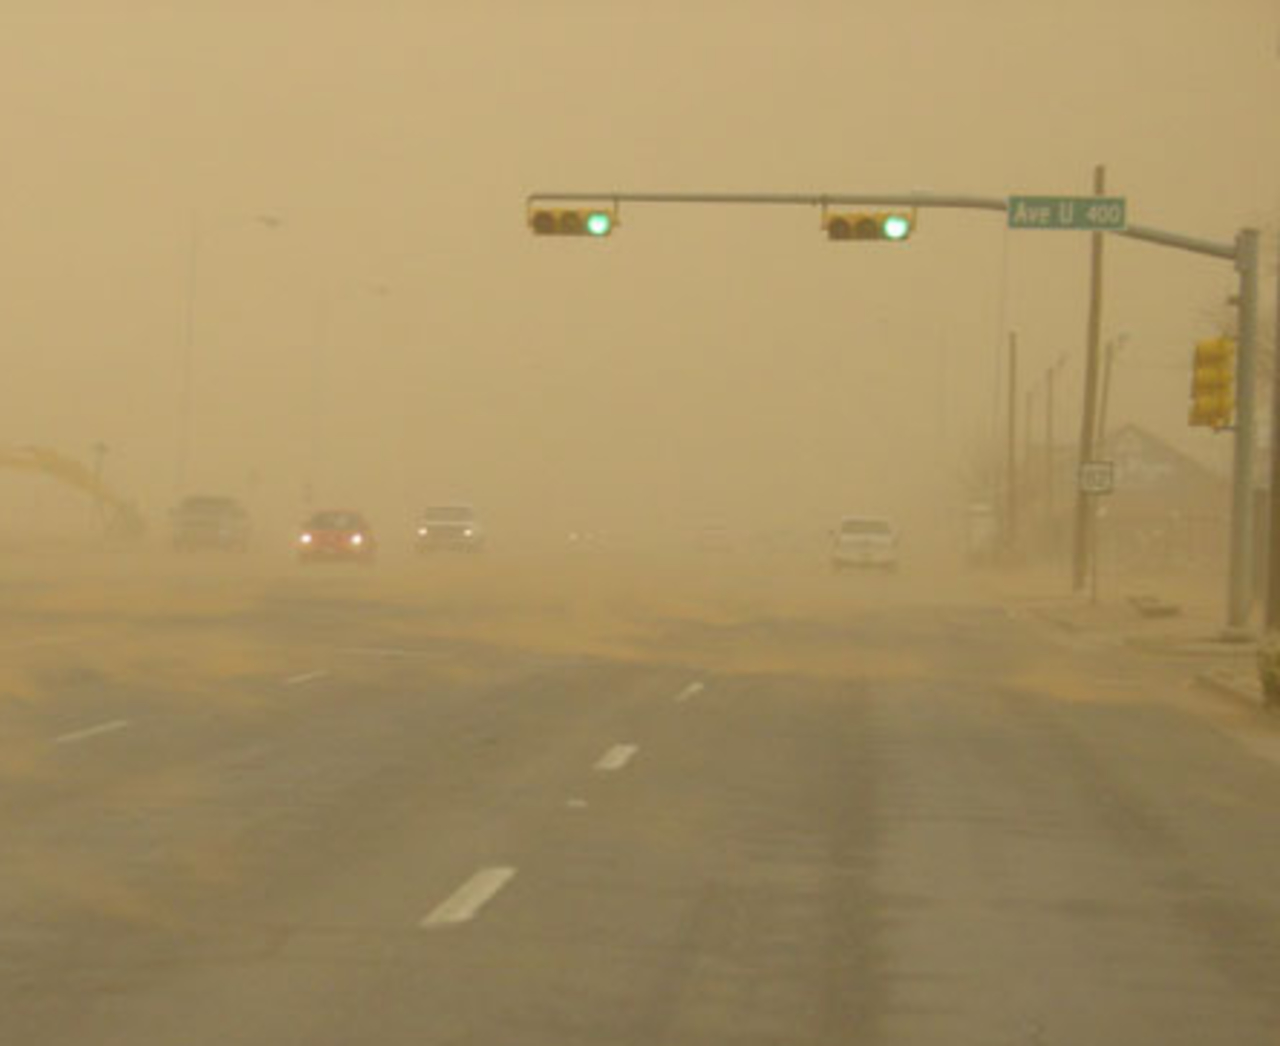car: (168, 497, 253, 560), (291, 508, 376, 566), (827, 516, 905, 570), (411, 503, 482, 557), (693, 521, 738, 554), (561, 520, 600, 546)
